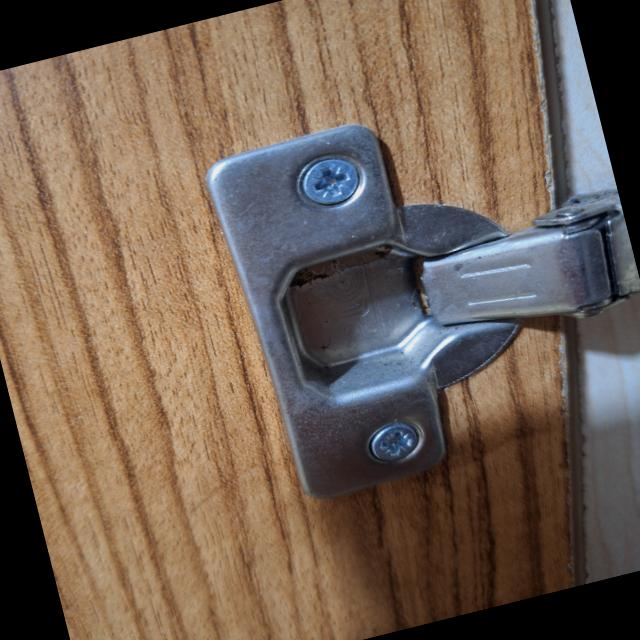Pozidriv: (294, 150, 368, 214), (362, 420, 427, 468)
